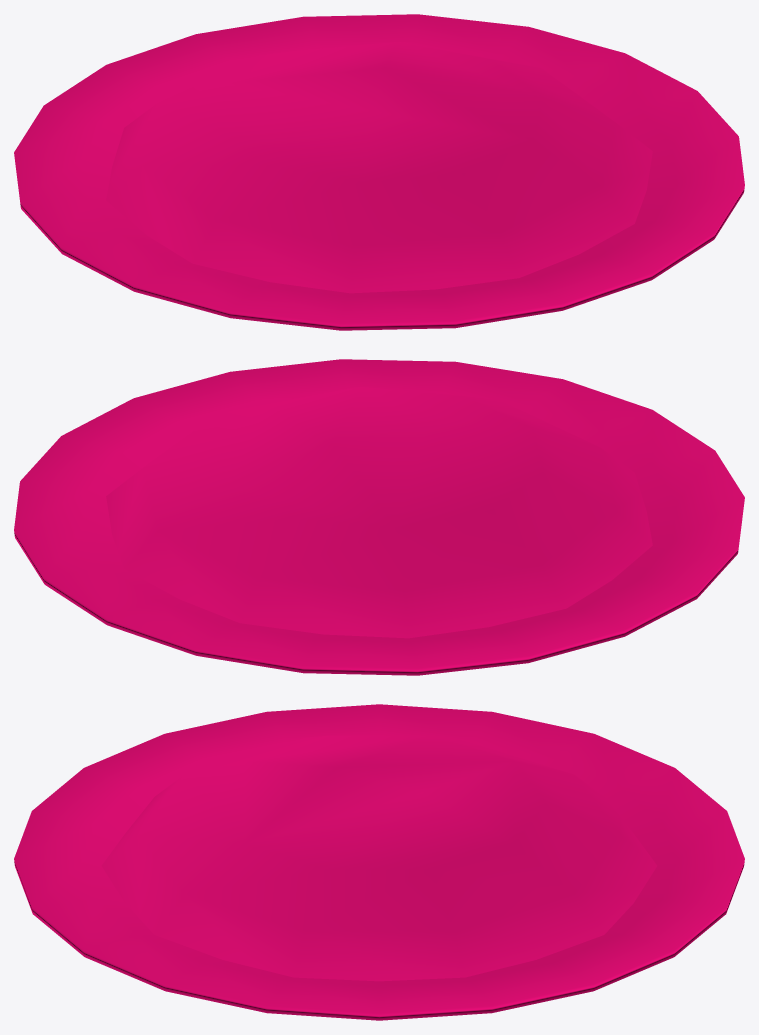
Rendered from Plate_Food_02_Lod1.fbx.
3 renders of one model, top to bottom at view 1: azimuth 30°, elevation 25°; view 2: azimuth 150°, elevation 25°; view 3: azimuth 270°, elevation 25°, orthographic.
Parts seen in each view (by area): view 1: Plate_Food_02_Lod1; view 2: Plate_Food_02_Lod1; view 3: Plate_Food_02_Lod1.
Boxes of the visible parts, x1,y1,x2,y2 form: Plate_Food_02_Lod1: (14, 14, 744, 330); Plate_Food_02_Lod1: (14, 359, 744, 675); Plate_Food_02_Lod1: (14, 704, 744, 1020).
Bounding box in the file's own units: 28.93 × 5.81 × 28.93.
